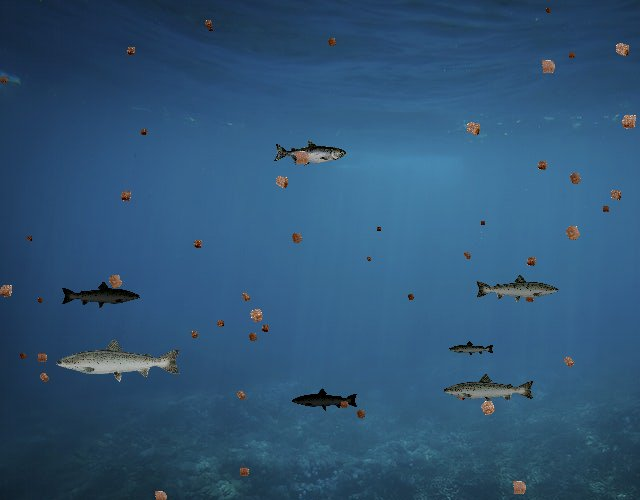Fish: (54, 337, 183, 383), (442, 372, 536, 406), (474, 273, 560, 304), (61, 280, 142, 310), (274, 140, 347, 167), (291, 388, 359, 412), (449, 340, 496, 357)
Pellet: (242, 301, 270, 329), (614, 106, 640, 136), (268, 169, 295, 196), (542, 5, 555, 18), (23, 232, 35, 244)
